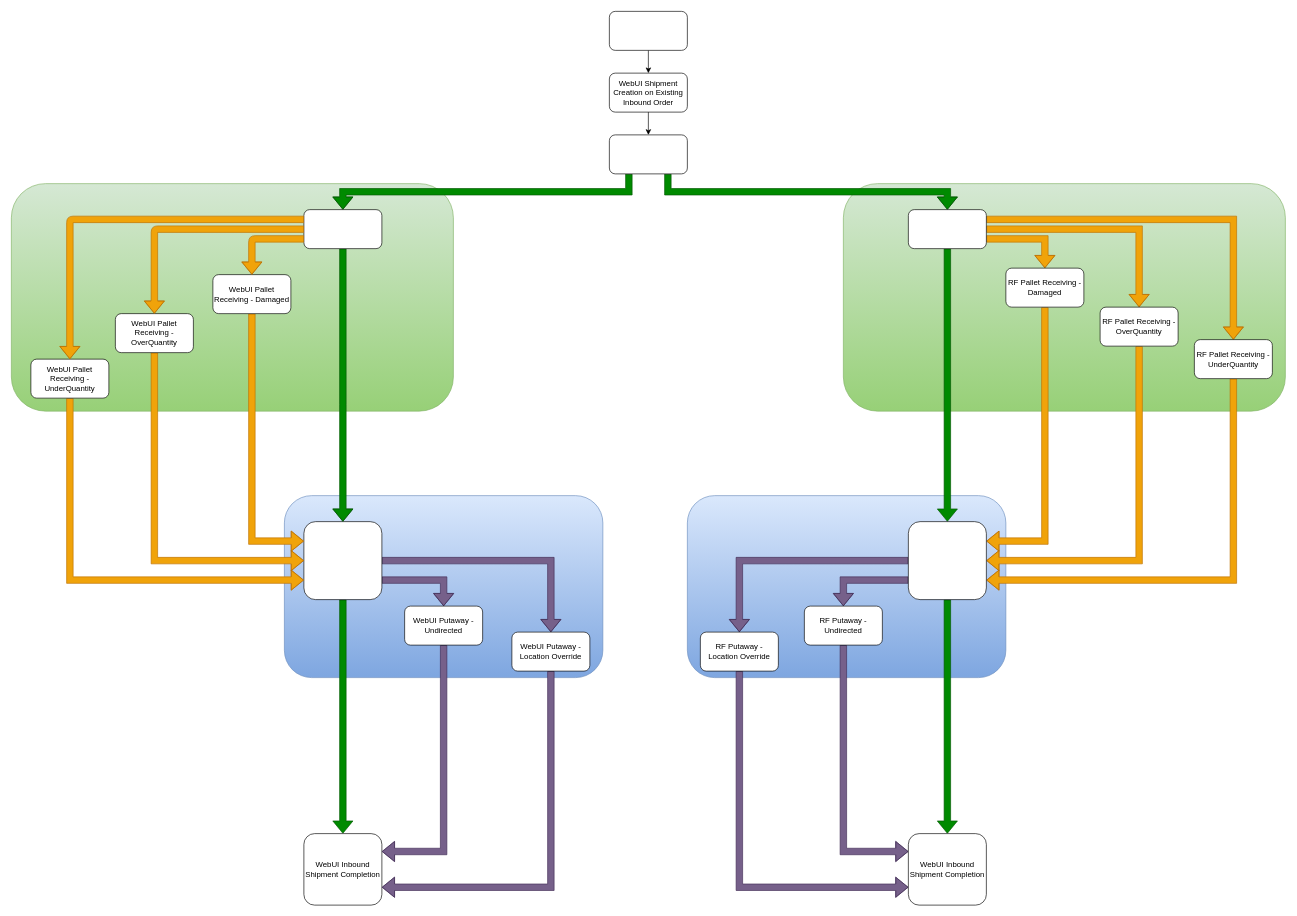
Some shapes in this 1297 by 916 pixel diagram are drawn without their labels. Each missing label, with the centre of its shape:
RF Pallet Receiving: point (947, 229)
RF Putaway Directed: point (947, 560)
Staging Location Assignment for Inbound Shipment: point (648, 154)
WebUI Inbound Order Creation: point (648, 30)
WebUI Pallet Receiving: point (342, 229)
WebUI Putaway Directed: point (342, 560)
